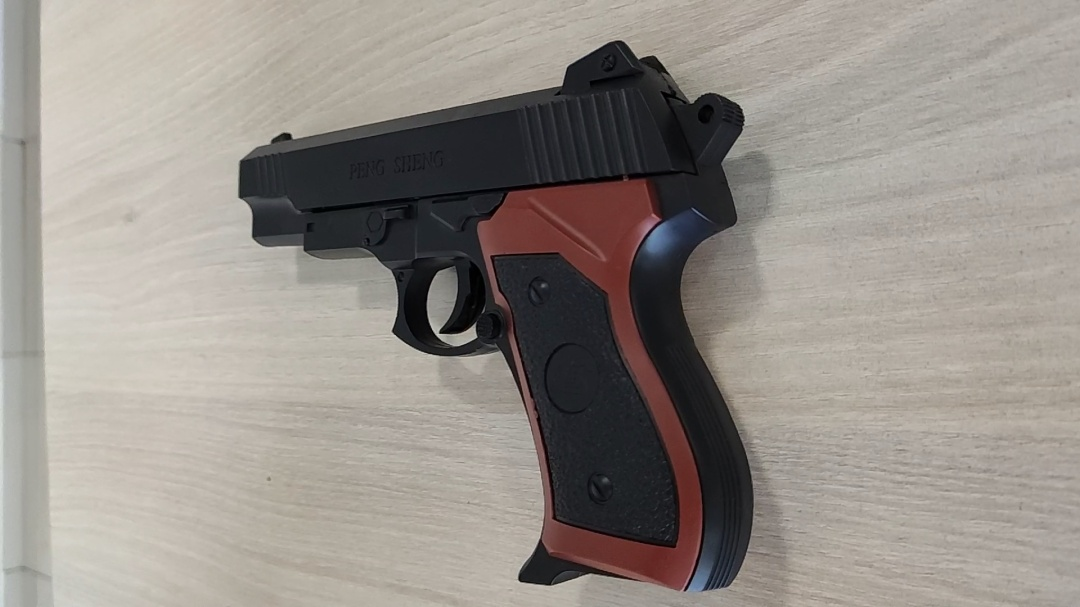gun: (236, 34, 756, 589)
